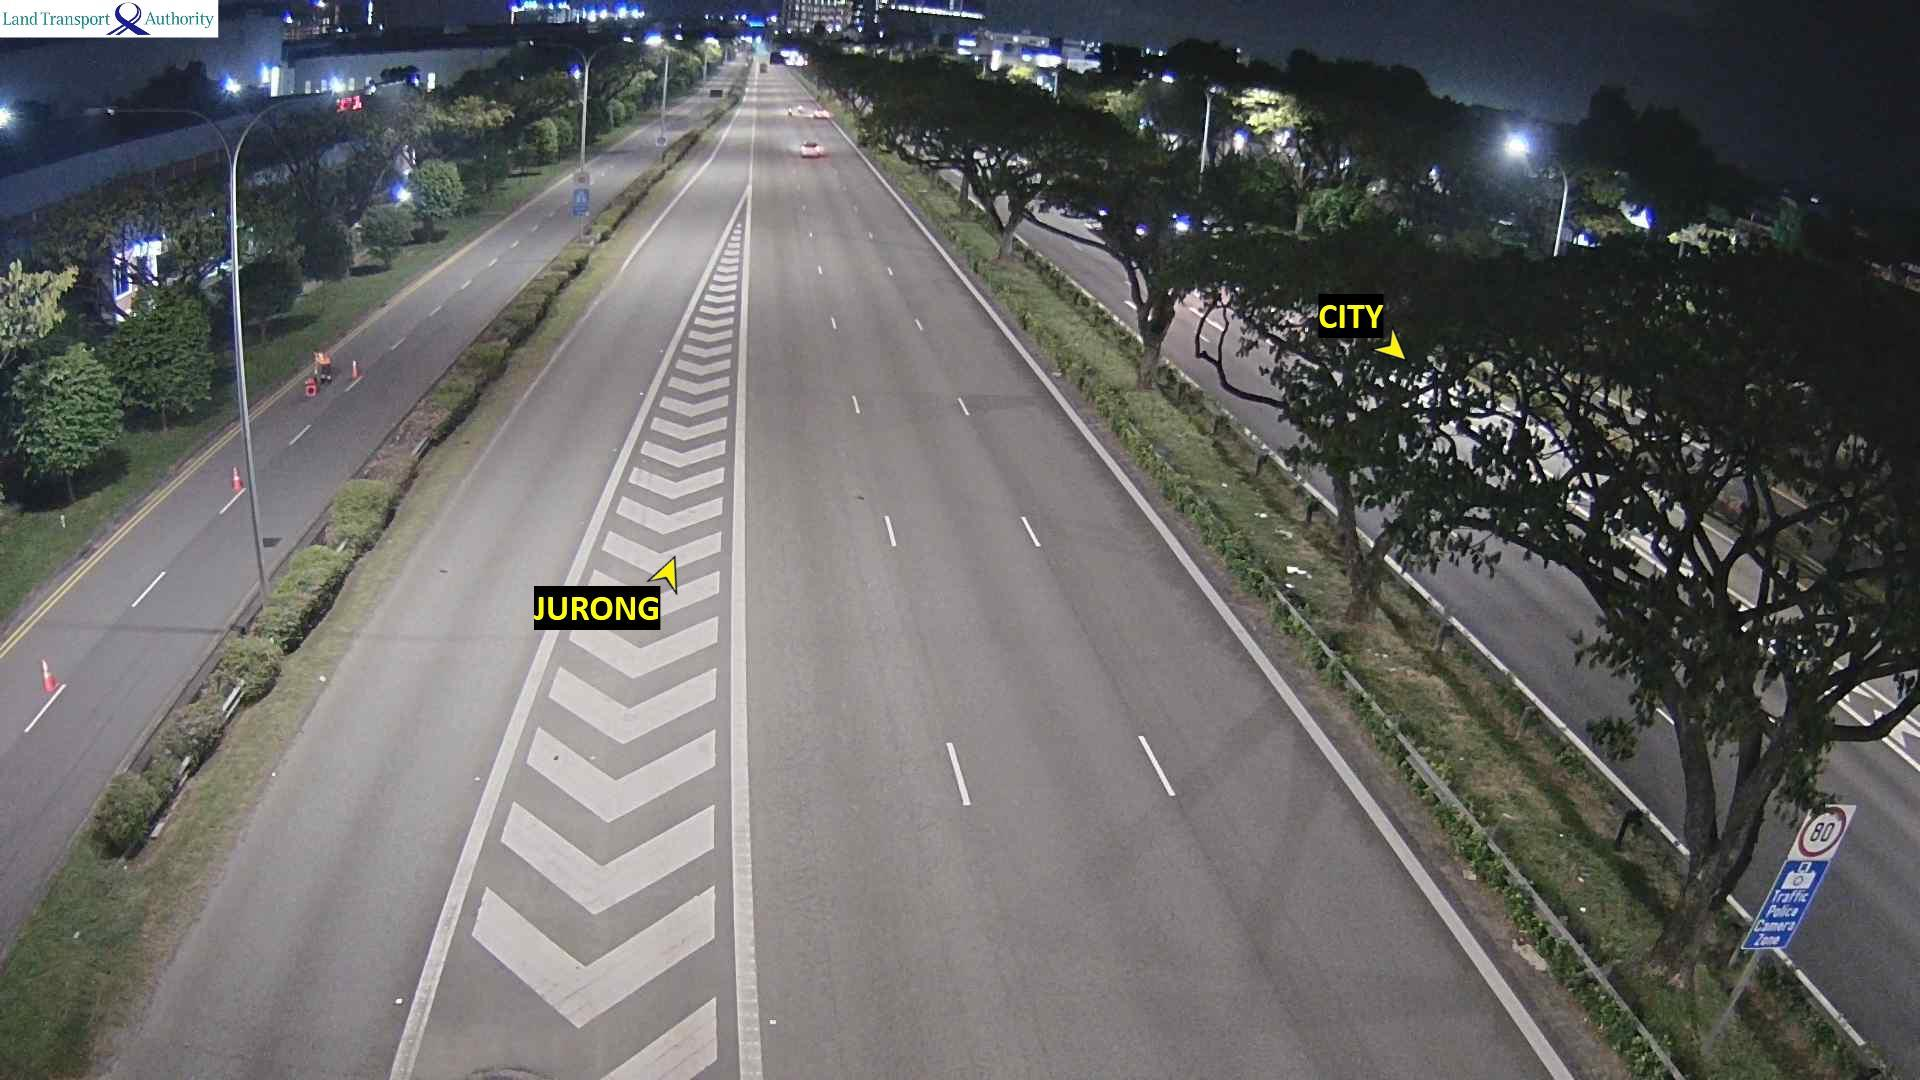cars: (798, 138, 825, 157), (811, 105, 829, 117), (708, 84, 723, 96)
motorcycle: (796, 103, 806, 115), (786, 104, 794, 117)
